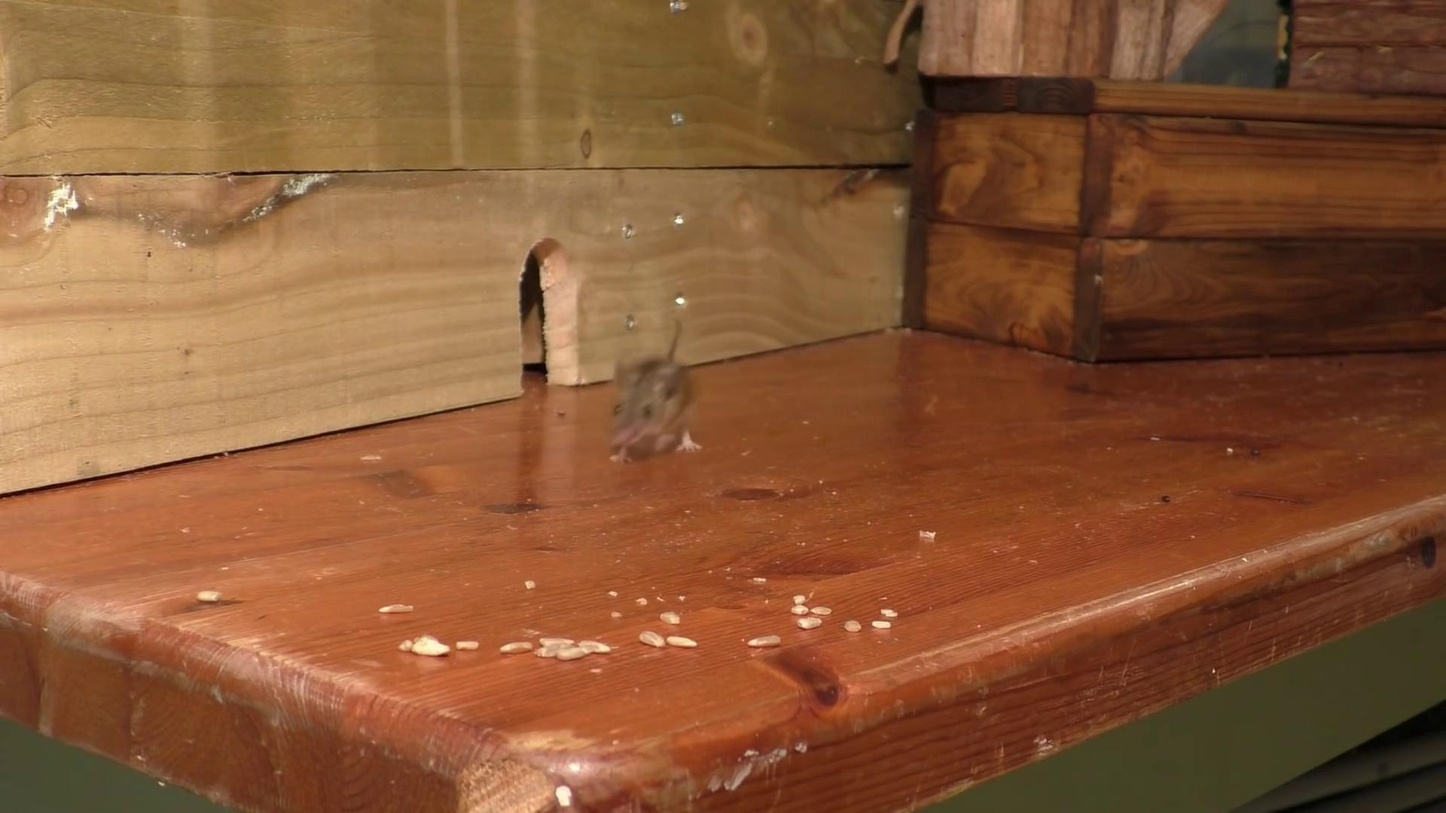rat: (609, 321, 704, 463)
